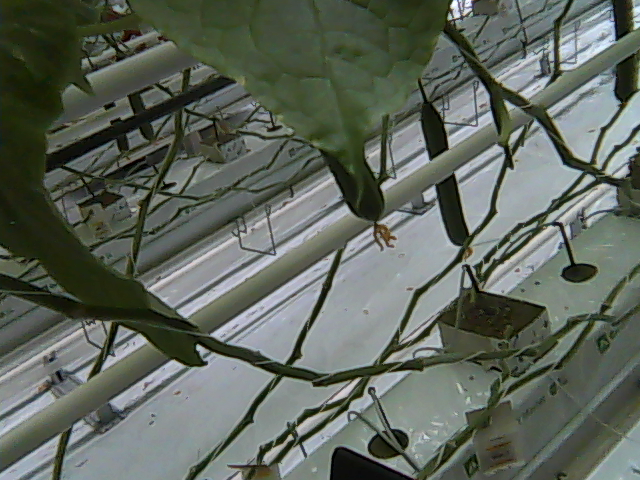concombre: (310, 134, 402, 258)
